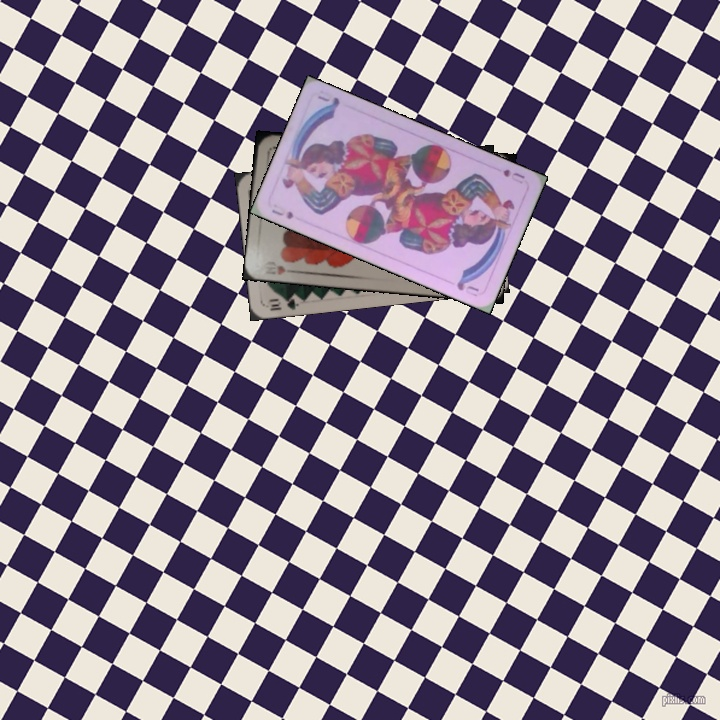G10: (265, 291, 304, 313)
H10: (273, 262, 299, 277)
SU: (498, 165, 527, 187), (267, 205, 296, 222)
